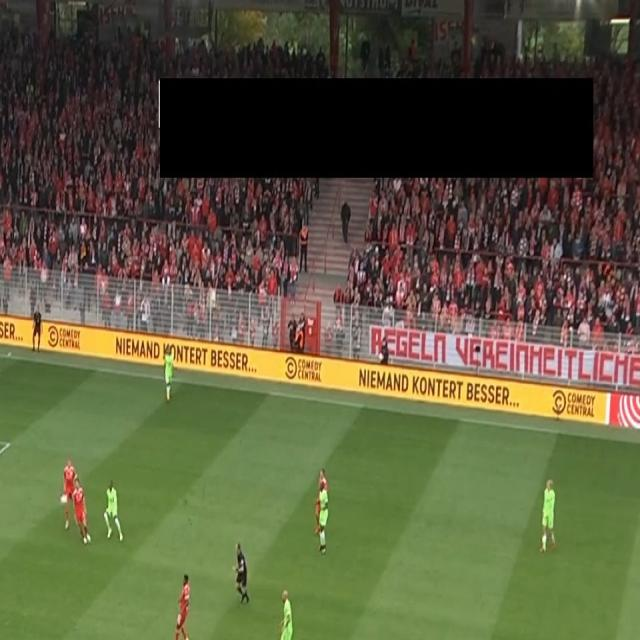ball: (59, 491, 68, 507)
